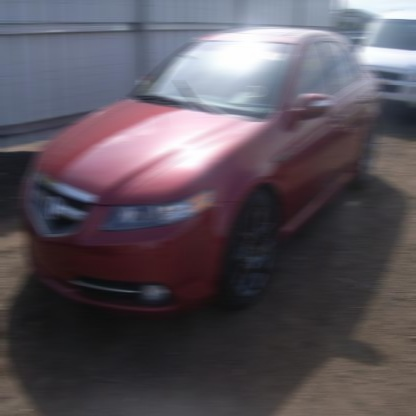Vehicle: (19, 23, 383, 323)
